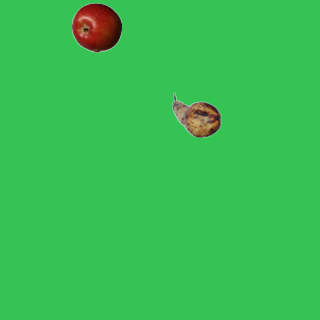Apple Braeburn: (71, 2, 121, 52)
Pear Abate: (171, 90, 221, 140)
